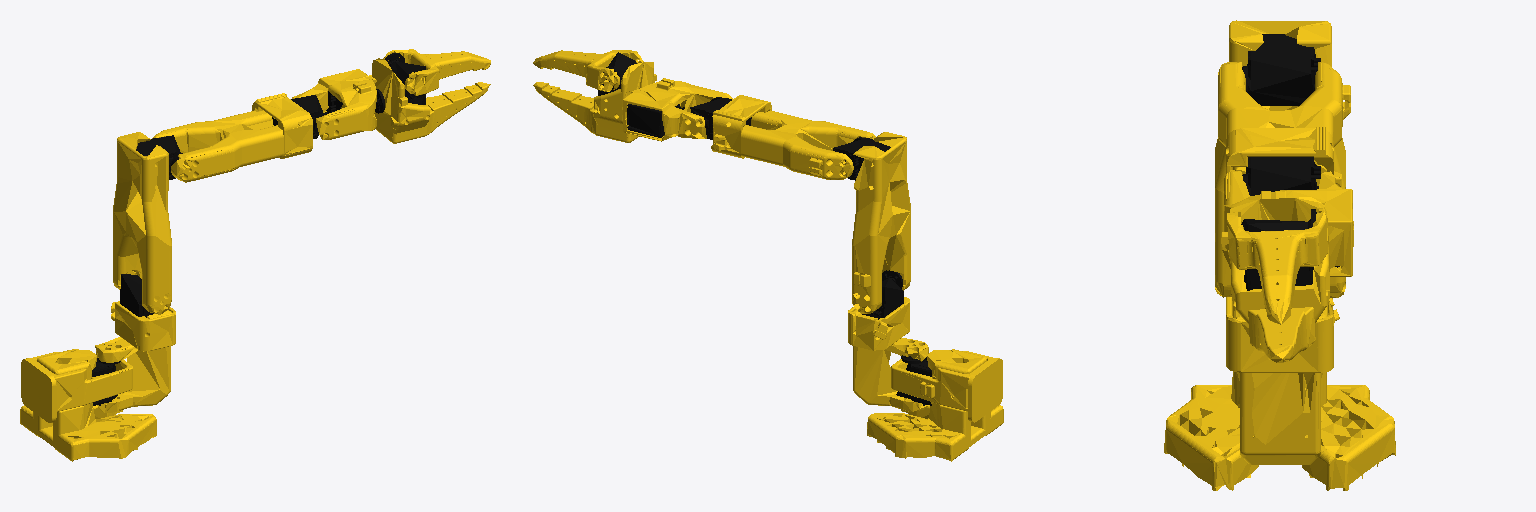
URDF robot description (so101):
<?xml version="1.0"?>
<!--
  SO-101 follower arm (5 joints + gripper).

  Source: https://github.com/TheRobotStudio/SO-ARM100 (Simulation/SO101/so101_new_calib.urdf),
  Apache License 2.0, by TheRobotStudio and Hugging Face. Changes made here: mesh paths point to
  this package, visual meshes are simplified, collision meshes are convex hulls of the originals,
  and the ROS 1 transmission tags are removed.

  This one file is used by ROS (robot_state_publisher, MoveIt, ros2_control) and by the browser
  3D view, so both always show the same robot. Joint names match LeRobot's.
-->
<robot name="so101">
  <material name="3d_printed">
    <color rgba="1.0 0.82 0.12 1.0" />
  </material>
  <material name="sts3215">
    <color rgba="0.1 0.1 0.1 1.0" />
  </material>
  <link name="base_link">
    <inertial>
      <origin xyz="0.0137179 -5.19711e-05 0.0334843" rpy="0 0 0" />
      <mass value="0.147" />
      <inertia ixx="0.000114686" ixy="-4.59787e-07" ixz="4.97151e-06" iyy="0.000136117" iyz="9.75275e-08" izz="0.000130364" />
    </inertial>
    <visual>
      <origin xyz="-0.00636471 -9.94414e-05 -0.0024" rpy="1.5708 -1.67685e-15 1.5708" />
      <geometry>
        <mesh filename="package://move_the_bot/robot/meshes/base_motor_holder_so101_v1.stl" />
      </geometry>
      <material name="3d_printed" />
    </visual>
    <collision>
      <origin xyz="-0.00636471 -9.94414e-05 -0.0024" rpy="1.5708 -1.67685e-15 1.5708" />
      <geometry>
        <mesh filename="package://move_the_bot/robot/collision/base_motor_holder_so101_v1.stl" />
      </geometry>
    </collision>
    <visual>
      <origin xyz="-0.00636471 -8.97657e-09 -0.0024" rpy="1.5708 -2.78073e-29 1.5708" />
      <geometry>
        <mesh filename="package://move_the_bot/robot/meshes/base_so101_v2.stl" />
      </geometry>
      <material name="3d_printed" />
    </visual>
    <collision>
      <origin xyz="-0.00636471 -8.97657e-09 -0.0024" rpy="1.5708 -2.78073e-29 1.5708" />
      <geometry>
        <mesh filename="package://move_the_bot/robot/collision/base_so101_v2.stl" />
      </geometry>
    </collision>
    <visual>
      <origin xyz="0.0263353 -8.97657e-09 0.0437" rpy="-8.21148e-16 7.84513e-18 1.249e-15" />
      <geometry>
        <mesh filename="package://move_the_bot/robot/meshes/sts3215_03a_v1.stl" />
      </geometry>
      <material name="sts3215" />
    </visual>
    <collision>
      <origin xyz="0.0263353 -8.97657e-09 0.0437" rpy="-8.21148e-16 7.84513e-18 1.249e-15" />
      <geometry>
        <mesh filename="package://move_the_bot/robot/collision/sts3215_03a_v1.stl" />
      </geometry>
    </collision>
    <visual>
      <origin xyz="-0.0309827 -0.000199441 0.0474" rpy="1.5708 -1.35493e-14 1.5708" />
      <geometry>
        <mesh filename="package://move_the_bot/robot/meshes/waveshare_mounting_plate_so101_v2.stl" />
      </geometry>
      <material name="3d_printed" />
    </visual>
    <collision>
      <origin xyz="-0.0309827 -0.000199441 0.0474" rpy="1.5708 -1.35493e-14 1.5708" />
      <geometry>
        <mesh filename="package://move_the_bot/robot/collision/waveshare_mounting_plate_so101_v2.stl" />
      </geometry>
    </collision>
  </link>
  <link name="shoulder_link">
    <inertial>
      <origin xyz="-0.0307604 -1.66727e-05 -0.0252713" rpy="0 0 0" />
      <mass value="0.100006" />
      <inertia ixx="8.3759e-05" ixy="7.55525e-08" ixz="-1.16342e-06" iyy="8.10403e-05" iyz="1.54663e-07" izz="2.39783e-05" />
    </inertial>
    <visual>
      <origin xyz="-0.0303992 0.000422241 -0.0417" rpy="1.5708 1.5708 0" />
      <geometry>
        <mesh filename="package://move_the_bot/robot/meshes/sts3215_03a_v1.stl" />
      </geometry>
      <material name="sts3215" />
    </visual>
    <collision>
      <origin xyz="-0.0303992 0.000422241 -0.0417" rpy="1.5708 1.5708 0" />
      <geometry>
        <mesh filename="package://move_the_bot/robot/collision/sts3215_03a_v1.stl" />
      </geometry>
    </collision>
    <visual>
      <origin xyz="-0.0675992 -0.000177759 0.0158499" rpy="1.5708 -1.5708 0" />
      <geometry>
        <mesh filename="package://move_the_bot/robot/meshes/motor_holder_so101_base_v1.stl" />
      </geometry>
      <material name="3d_printed" />
    </visual>
    <collision>
      <origin xyz="-0.0675992 -0.000177759 0.0158499" rpy="1.5708 -1.5708 0" />
      <geometry>
        <mesh filename="package://move_the_bot/robot/collision/motor_holder_so101_base_v1.stl" />
      </geometry>
    </collision>
    <visual>
      <origin xyz="0.0122008 2.22413e-05 0.0464" rpy="-1.5708 2.35221e-33 0" />
      <geometry>
        <mesh filename="package://move_the_bot/robot/meshes/rotation_pitch_so101_v1.stl" />
      </geometry>
      <material name="3d_printed" />
    </visual>
    <collision>
      <origin xyz="0.0122008 2.22413e-05 0.0464" rpy="-1.5708 2.35221e-33 0" />
      <geometry>
        <mesh filename="package://move_the_bot/robot/collision/rotation_pitch_so101_v1.stl" />
      </geometry>
    </collision>
  </link>
  <link name="upper_arm_link">
    <inertial>
      <origin xyz="-0.0898471 -0.00838224 0.0184089" rpy="0 0 0" />
      <mass value="0.103" />
      <inertia ixx="4.08002e-05" ixy="-1.97819e-05" ixz="-4.03016e-08" iyy="0.000147318" iyz="8.97326e-09" izz="0.000142487" />
    </inertial>
    <visual>
      <origin xyz="-0.11257 -0.0155 0.0187" rpy="-3.14159 -5.27356e-16 -1.5708" />
      <geometry>
        <mesh filename="package://move_the_bot/robot/meshes/sts3215_03a_v1.stl" />
      </geometry>
      <material name="sts3215" />
    </visual>
    <collision>
      <origin xyz="-0.11257 -0.0155 0.0187" rpy="-3.14159 -5.27356e-16 -1.5708" />
      <geometry>
        <mesh filename="package://move_the_bot/robot/collision/sts3215_03a_v1.stl" />
      </geometry>
    </collision>
    <visual>
      <origin xyz="-0.065085 0.012 0.0182" rpy="3.14159 -0 -1.30911e-30" />
      <geometry>
        <mesh filename="package://move_the_bot/robot/meshes/upper_arm_so101_v1.stl" />
      </geometry>
      <material name="3d_printed" />
    </visual>
    <collision>
      <origin xyz="-0.065085 0.012 0.0182" rpy="3.14159 -0 -1.30911e-30" />
      <geometry>
        <mesh filename="package://move_the_bot/robot/collision/upper_arm_so101_v1.stl" />
      </geometry>
    </collision>
  </link>
  <link name="lower_arm_link">
    <inertial>
      <origin xyz="-0.0980701 0.00324376 0.0182831" rpy="0 0 0" />
      <mass value="0.104" />
      <inertia ixx="2.87438e-05" ixy="7.41152e-06" ixz="1.26409e-06" iyy="0.000159844" iyz="-4.90188e-08" izz="0.00014529" />
    </inertial>
    <visual>
      <origin xyz="-0.0648499 -0.032 0.0182" rpy="3.14159 -0 6.67202e-31" />
      <geometry>
        <mesh filename="package://move_the_bot/robot/meshes/under_arm_so101_v1.stl" />
      </geometry>
      <material name="3d_printed" />
    </visual>
    <collision>
      <origin xyz="-0.0648499 -0.032 0.0182" rpy="3.14159 -0 6.67202e-31" />
      <geometry>
        <mesh filename="package://move_the_bot/robot/collision/under_arm_so101_v1.stl" />
      </geometry>
    </collision>
    <visual>
      <origin xyz="-0.0648499 -0.032 0.018" rpy="-3.14159 -2.55351e-15 -1.83387e-30" />
      <geometry>
        <mesh filename="package://move_the_bot/robot/meshes/motor_holder_so101_wrist_v1.stl" />
      </geometry>
      <material name="3d_printed" />
    </visual>
    <collision>
      <origin xyz="-0.0648499 -0.032 0.018" rpy="-3.14159 -2.55351e-15 -1.83387e-30" />
      <geometry>
        <mesh filename="package://move_the_bot/robot/collision/motor_holder_so101_wrist_v1.stl" />
      </geometry>
    </collision>
    <visual>
      <origin xyz="-0.1224 0.0052 0.0187" rpy="-3.14159 -7.88861e-31 -3.14159" />
      <geometry>
        <mesh filename="package://move_the_bot/robot/meshes/sts3215_03a_v1.stl" />
      </geometry>
      <material name="sts3215" />
    </visual>
    <collision>
      <origin xyz="-0.1224 0.0052 0.0187" rpy="-3.14159 -7.88861e-31 -3.14159" />
      <geometry>
        <mesh filename="package://move_the_bot/robot/collision/sts3215_03a_v1.stl" />
      </geometry>
    </collision>
  </link>
  <link name="wrist_link">
    <inertial>
      <origin xyz="-0.000103312 -0.0386143 0.0281156" rpy="0 0 0" />
      <mass value="0.079" />
      <inertia ixx="3.68263e-05" ixy="1.7893e-08" ixz="-5.28128e-08" iyy="2.5391e-05" iyz="3.6412e-06" izz="2.1e-05" />
    </inertial>
    <visual>
      <origin xyz="8.32667e-17 -0.0424 0.0306" rpy="1.5708 1.5708 0" />
      <geometry>
        <mesh filename="package://move_the_bot/robot/meshes/sts3215_03a_no_horn_v1.stl" />
      </geometry>
      <material name="sts3215" />
    </visual>
    <collision>
      <origin xyz="8.32667e-17 -0.0424 0.0306" rpy="1.5708 1.5708 0" />
      <geometry>
        <mesh filename="package://move_the_bot/robot/collision/sts3215_03a_no_horn_v1.stl" />
      </geometry>
    </collision>
    <visual>
      <origin xyz="0 -0.028 0.0181" rpy="-1.5708 -1.5708 0" />
      <geometry>
        <mesh filename="package://move_the_bot/robot/meshes/wrist_roll_pitch_so101_v2.stl" />
      </geometry>
      <material name="3d_printed" />
    </visual>
    <collision>
      <origin xyz="0 -0.028 0.0181" rpy="-1.5708 -1.5708 0" />
      <geometry>
        <mesh filename="package://move_the_bot/robot/collision/wrist_roll_pitch_so101_v2.stl" />
      </geometry>
    </collision>
  </link>
  <link name="gripper_link">
    <inertial>
      <origin xyz="0.000213627 0.000245138 -0.025187" rpy="0 0 0" />
      <mass value="0.087" />
      <inertia ixx="2.75087e-05" ixy="-3.35241e-07" ixz="-5.7352e-06" iyy="4.33657e-05" iyz="-5.17847e-08" izz="3.45059e-05" />
    </inertial>
    <visual>
      <origin xyz="0.0077 0.0001 -0.0234" rpy="-1.5708 -5.19179e-17 -1.66533e-16" />
      <geometry>
        <mesh filename="package://move_the_bot/robot/meshes/sts3215_03a_v1.stl" />
      </geometry>
      <material name="sts3215" />
    </visual>
    <collision>
      <origin xyz="0.0077 0.0001 -0.0234" rpy="-1.5708 -5.19179e-17 -1.66533e-16" />
      <geometry>
        <mesh filename="package://move_the_bot/robot/collision/sts3215_03a_v1.stl" />
      </geometry>
    </collision>
    <visual>
      <origin xyz="8.32667e-17 -0.000218214 0.000949706" rpy="-3.14159 -5.55112e-17 0" />
      <geometry>
        <mesh filename="package://move_the_bot/robot/meshes/wrist_roll_follower_so101_v1.stl" />
      </geometry>
      <material name="3d_printed" />
    </visual>
    <collision>
      <origin xyz="8.32667e-17 -0.000218214 0.000949706" rpy="-3.14159 -5.55112e-17 0" />
      <geometry>
        <mesh filename="package://move_the_bot/robot/collision/wrist_roll_follower_so101_v1.stl" />
      </geometry>
    </collision>
  </link>
  <link name="gripper_frame_link">
    <origin xyz="0 0 0" rpy="0 -0 0" />
    <inertial>
      <origin xyz="0 0 0" rpy="0 0 0" />
      <mass value="1e-9" />
      <inertia ixx="0" ixy="0" ixz="0" iyy="0" iyz="0" izz="0" />
    </inertial>
  </link>
  <joint name="gripper_frame_joint" type="fixed">
    <origin xyz="-0.0079 -0.000218121 -0.0981274" rpy="0 3.14159 0" />
    <parent link="gripper_link" />
    <child link="gripper_frame_link" />
  </joint>
  <link name="moving_jaw_so101_v1_link">
    <inertial>
      <origin xyz="-0.00157495 -0.0300244 0.0192755" rpy="0 0 0" />
      <mass value="0.012" />
      <inertia ixx="6.61427e-06" ixy="-3.19807e-07" ixz="-5.90717e-09" iyy="1.89032e-06" iyz="-1.09945e-07" izz="5.28738e-06" />
    </inertial>
    <visual>
      <origin xyz="-5.55112e-17 -5.55112e-17 0.0189" rpy="9.53145e-17 6.93889e-18 1.24077e-24" />
      <geometry>
        <mesh filename="package://move_the_bot/robot/meshes/moving_jaw_so101_v1.stl" />
      </geometry>
      <material name="3d_printed" />
    </visual>
    <collision>
      <origin xyz="-5.55112e-17 -5.55112e-17 0.0189" rpy="9.53145e-17 6.93889e-18 1.24077e-24" />
      <geometry>
        <mesh filename="package://move_the_bot/robot/collision/moving_jaw_so101_v1.stl" />
      </geometry>
    </collision>
  </link>
  <joint name="gripper" type="revolute">
    <origin xyz="0.0202 0.0188 -0.0234" rpy="1.5708 -5.24284e-08 -1.41553e-15" />
    <parent link="gripper_link" />
    <child link="moving_jaw_so101_v1_link" />
    <axis xyz="0 0 1" />
    <limit effort="10" velocity="10" lower="-0.174533" upper="1.74533" />
  </joint>
  <joint name="wrist_roll" type="revolute">
    <origin xyz="5.55112e-17 -0.0611 0.0181" rpy="1.5708 0.0486795 3.14159" />
    <parent link="wrist_link" />
    <child link="gripper_link" />
    <axis xyz="0 0 1" />
    <limit effort="10" velocity="10" lower="-2.74385" upper="2.84121" />
  </joint>
  <joint name="wrist_flex" type="revolute">
    <origin xyz="-0.1349 0.0052 3.62355e-17" rpy="4.02456e-15 8.67362e-16 -1.5708" />
    <parent link="lower_arm_link" />
    <child link="wrist_link" />
    <axis xyz="0 0 1" />
    <limit effort="10" velocity="10" lower="-1.65806" upper="1.65806" />
  </joint>
  <joint name="elbow_flex" type="revolute">
    <origin xyz="-0.11257 -0.028 1.73763e-16" rpy="-3.63608e-16 8.74301e-16 1.5708" />
    <parent link="upper_arm_link" />
    <child link="lower_arm_link" />
    <axis xyz="0 0 1" />
    <limit effort="10" velocity="10" lower="-1.69" upper="1.69" />
  </joint>
  <joint name="shoulder_lift" type="revolute">
    <origin xyz="-0.0303992 -0.0182778 -0.0542" rpy="-1.5708 -1.5708 0" />
    <parent link="shoulder_link" />
    <child link="upper_arm_link" />
    <axis xyz="0 0 1" />
    <limit effort="10" velocity="10" lower="-1.74533" upper="1.74533" />
  </joint>
  <joint name="shoulder_pan" type="revolute">
    <origin xyz="0.0388353 -8.97657e-09 0.0624" rpy="3.14159 4.18253e-17 -3.14159" />
    <parent link="base_link" />
    <child link="shoulder_link" />
    <axis xyz="0 0 1" />
    <limit effort="10" velocity="10" lower="-1.91986" upper="1.91986" />
  </joint>
</robot>

--- Render facts (derived) ---
3 views of the same robot in one strip: view 1: azimuth 30°, elevation 25°; view 2: azimuth 150°, elevation 25°; view 3: azimuth 270°, elevation 25° (orthographic).
Robot: so101 — 8 links, 7 joints (6 revolute, 1 fixed); root link base_link; default pose: every joint at zero.
Links seen in each view (by area): view 1: base_link, upper_arm_link, lower_arm_link, shoulder_link, gripper_link, wrist_link, moving_jaw_so101_v1_link; view 2: base_link, upper_arm_link, lower_arm_link, shoulder_link, wrist_link, gripper_link, moving_jaw_so101_v1_link; view 3: base_link, lower_arm_link, shoulder_link, upper_arm_link, gripper_link, moving_jaw_so101_v1_link, wrist_link.
Boxes of the visible links, bbox=[...] form: base_link: bbox=[20, 349, 156, 461]; upper_arm_link: bbox=[113, 132, 182, 314]; lower_arm_link: bbox=[152, 93, 328, 182]; shoulder_link: bbox=[95, 274, 175, 412]; gripper_link: bbox=[372, 53, 490, 143]; wrist_link: bbox=[292, 69, 384, 139]; moving_jaw_so101_v1_link: bbox=[383, 49, 490, 95]; base_link: bbox=[867, 349, 1003, 461]; upper_arm_link: bbox=[833, 132, 910, 313]; lower_arm_link: bbox=[690, 95, 875, 179]; shoulder_link: bbox=[848, 270, 928, 411]; wrist_link: bbox=[623, 78, 732, 141]; gripper_link: bbox=[533, 52, 656, 142]; moving_jaw_so101_v1_link: bbox=[533, 50, 643, 91]; base_link: bbox=[1164, 298, 1395, 490]; lower_arm_link: bbox=[1218, 62, 1350, 195]; shoulder_link: bbox=[1226, 297, 1339, 464]; upper_arm_link: bbox=[1215, 20, 1353, 297]; gripper_link: bbox=[1221, 197, 1329, 362]; moving_jaw_so101_v1_link: bbox=[1227, 208, 1327, 324]; wrist_link: bbox=[1224, 170, 1352, 276].
Size in the robot's own frame: 0.4308 by 0.1125 by 0.2694 metres.
Meshes: 13 distinct files referenced, 17 mesh visuals loaded (13 binary STL).
